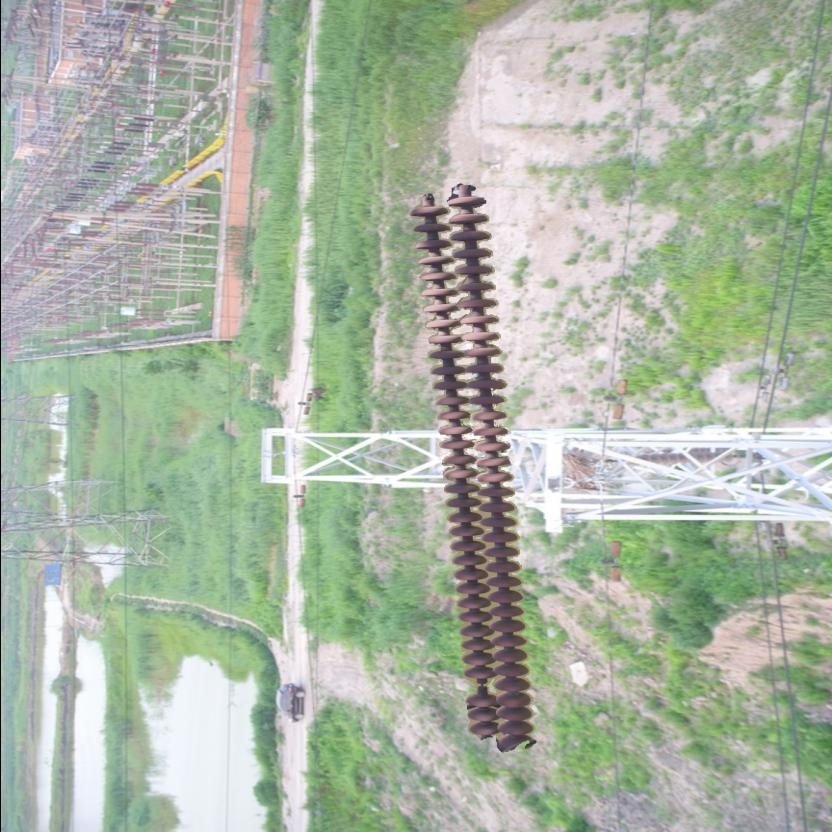defect: (457, 663, 497, 710)
